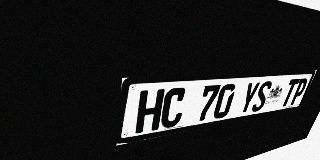0: (212, 83, 237, 120)
7: (194, 85, 221, 123)
C: (159, 87, 188, 129)
H: (135, 89, 165, 134)
P: (289, 78, 309, 105)
S: (250, 81, 273, 112)
T: (279, 79, 300, 107)
Y: (237, 82, 261, 115)
